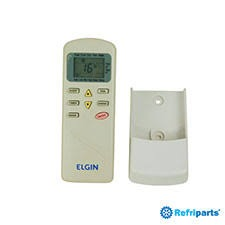remote control: (61, 34, 118, 184)
